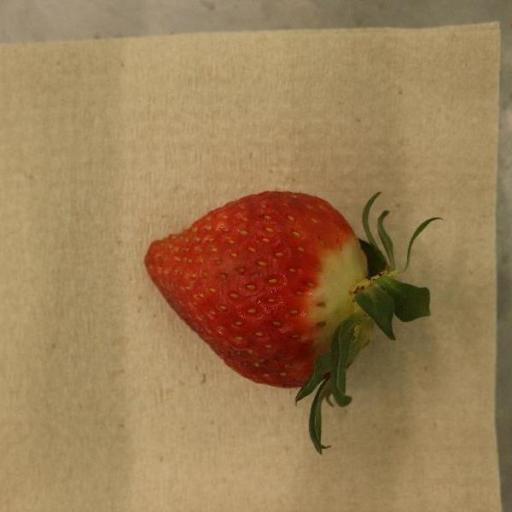Strawberry: (145, 191, 434, 454)
